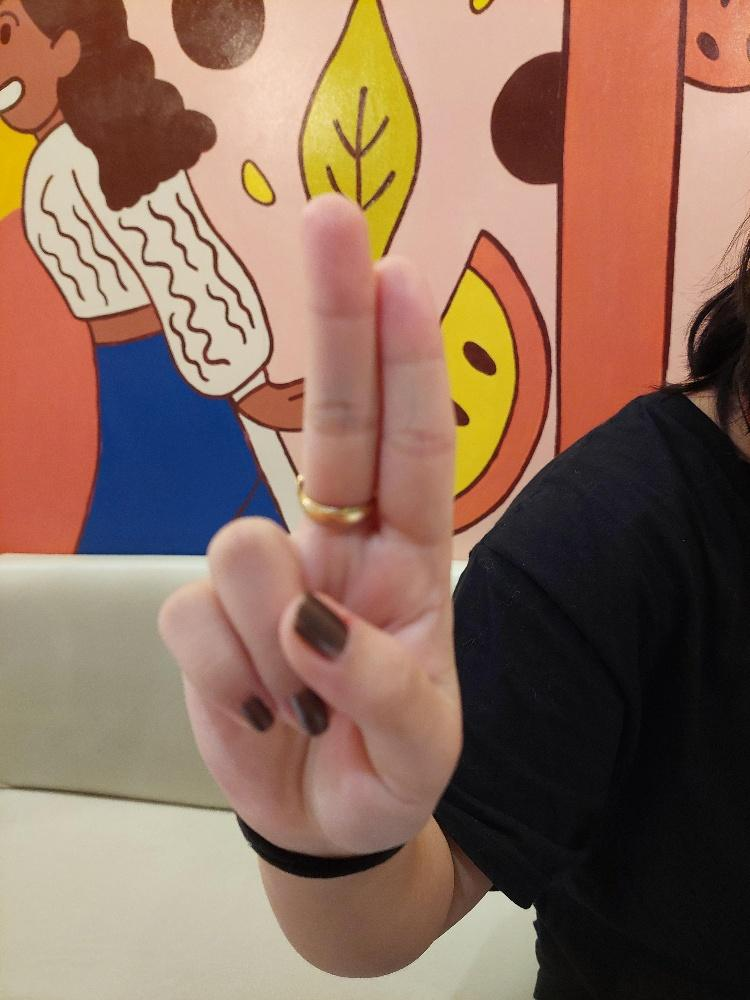u: (154, 188, 465, 854)
